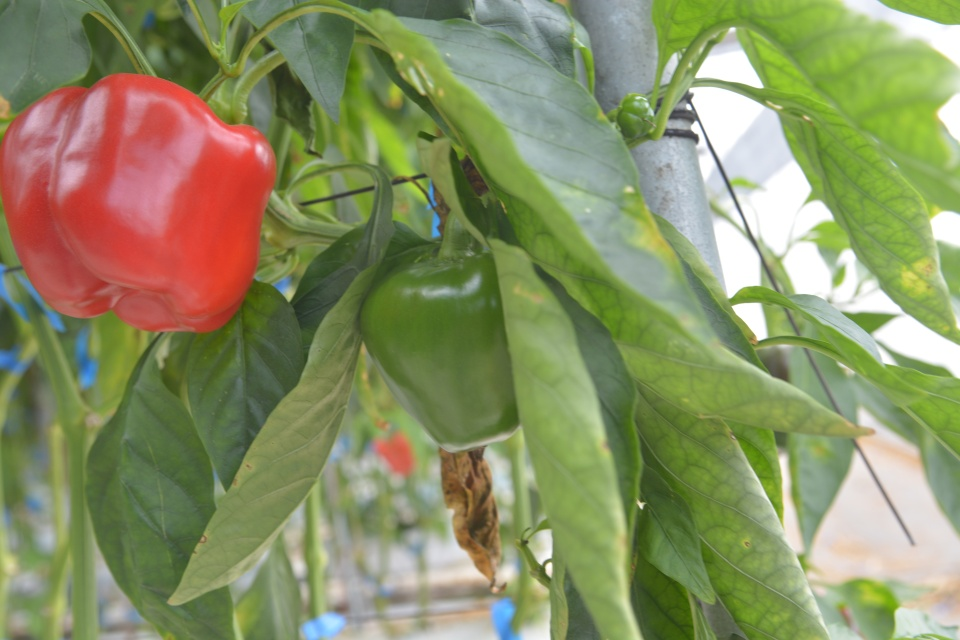fruit: (0, 69, 280, 336), (357, 240, 520, 454)
immature: (614, 88, 658, 141)
pedicle: (426, 244, 478, 263)
